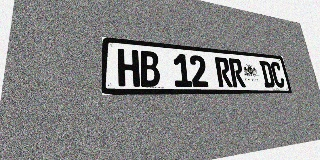1: (172, 53, 192, 87)
2: (189, 55, 208, 87)
B: (139, 50, 161, 87)
C: (270, 62, 286, 88)
D: (259, 61, 275, 87)
H: (117, 49, 140, 87)
R: (214, 57, 233, 87), (228, 58, 246, 87)
